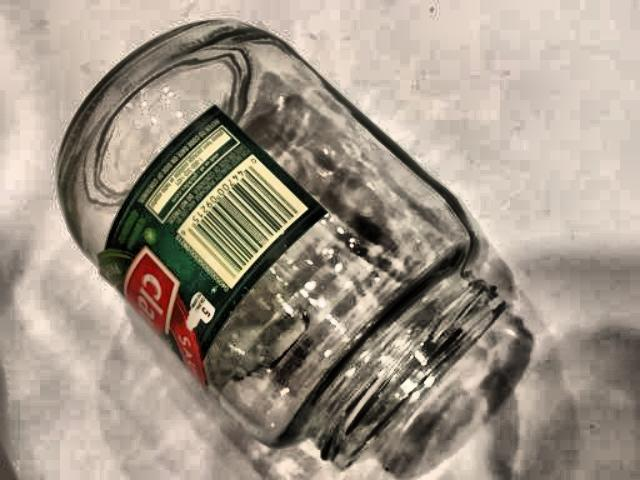Almennt: (49, 8, 516, 471)
